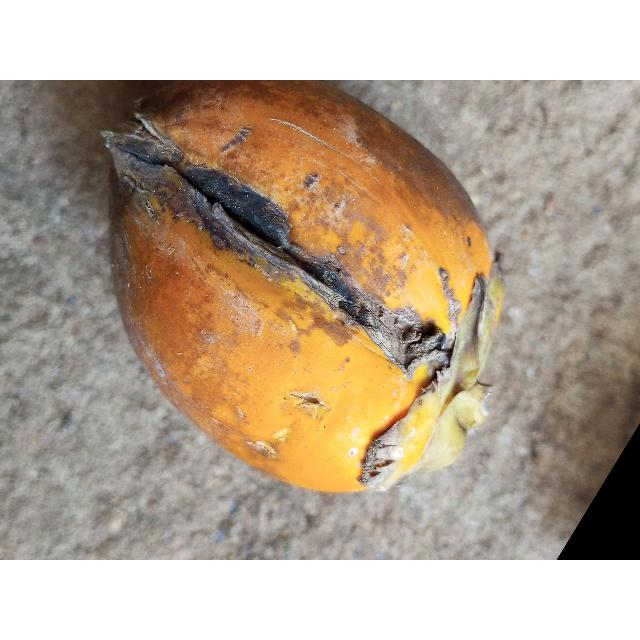damaged: (26, 80, 507, 496)
